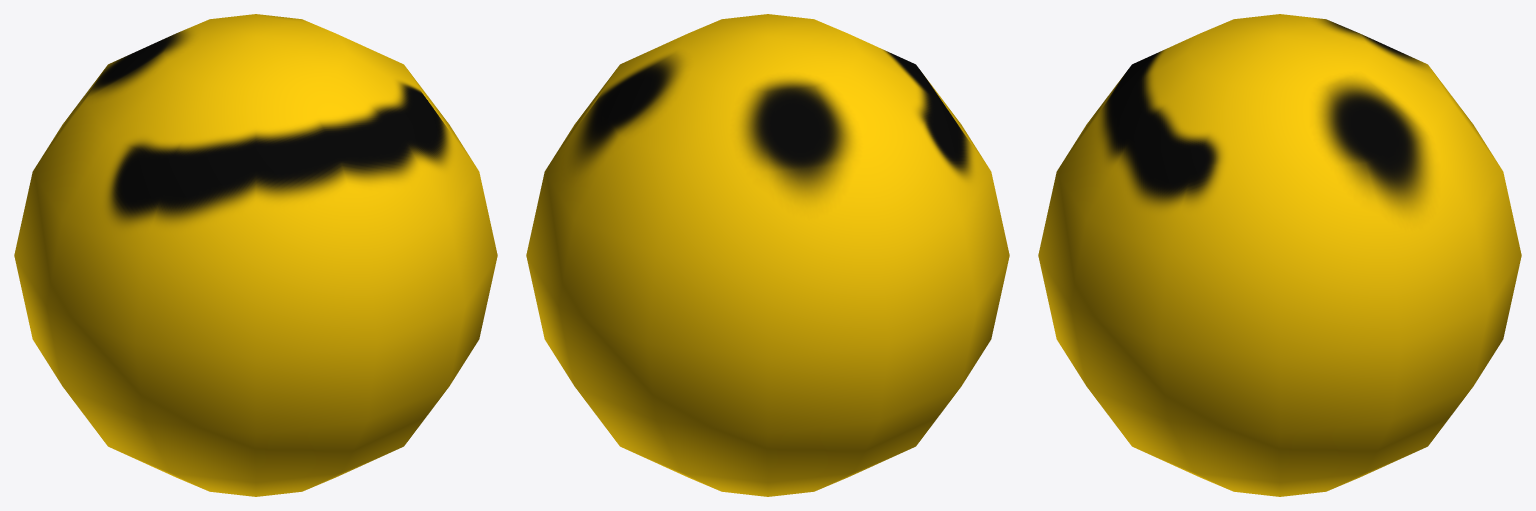
Rendered from happy2.fbx.
3 views of the same model, side by side, from view 1: azimuth 30°, elevation 25°; view 2: azimuth 150°, elevation 25°; view 3: azimuth 270°, elevation 25° (orthographic).
Parts seen in each view (by area): view 1: happy_2; view 2: happy_2; view 3: happy_2.
Part boxes in pixels (left/top/right/bottom): happy_2: left=14, top=14, right=497, bottom=496; happy_2: left=526, top=14, right=1009, bottom=496; happy_2: left=1038, top=14, right=1521, bottom=496.
Size of the model in its own units: 53 by 53 by 53.
